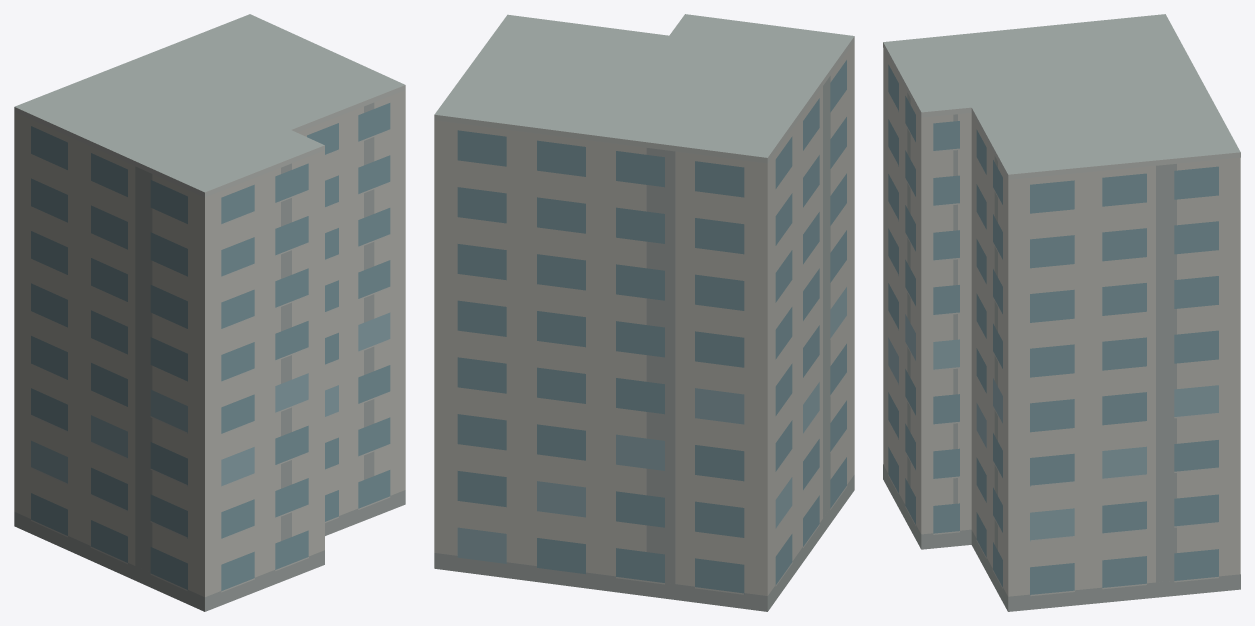
File: survey-upis-32956475.glb
3 views of the same model, side by side, from view 1: azimuth 30°, elevation 25°; view 2: azimuth 150°, elevation 25°; view 3: azimuth 270°, elevation 25° (orthographic). The views are drawn at different scales.
Visible parts, largest first — view 1: survey-upis-32956475.tmp; view 2: survey-upis-32956475.tmp; view 3: survey-upis-32956475.tmp.
Part boxes in pixels (x1,y1,x2,y2): survey-upis-32956475.tmp: (14,14,405,611); survey-upis-32956475.tmp: (434,14,854,611); survey-upis-32956475.tmp: (883,14,1240,611).
Bounding box in the file's own units: 15.77 × 20 × 14.84.
